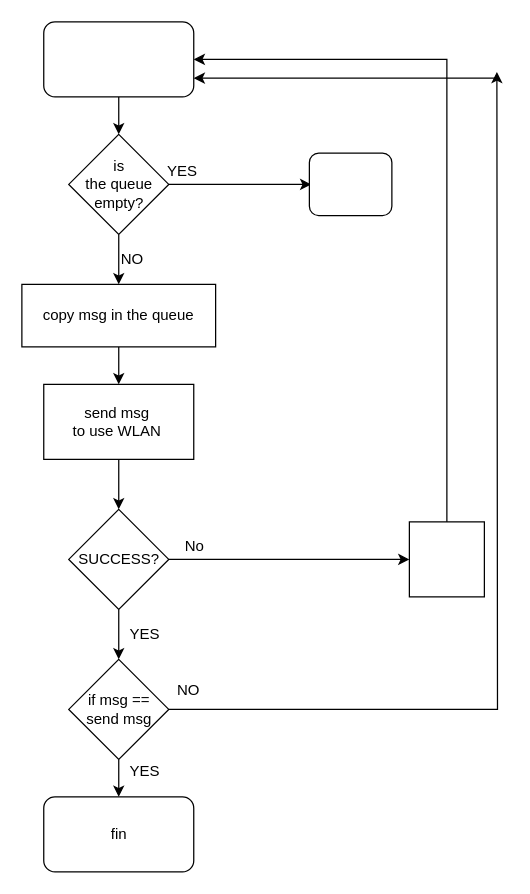
Image size: 530x894. Some labels were removed from this diagram. Here are the shapes that lost their labels. From the top down, the box of each, then its label:
(42, 21, 194, 97): Send Msg
(308, 152, 392, 216): return
(408, 521, 484, 597): failBlink
